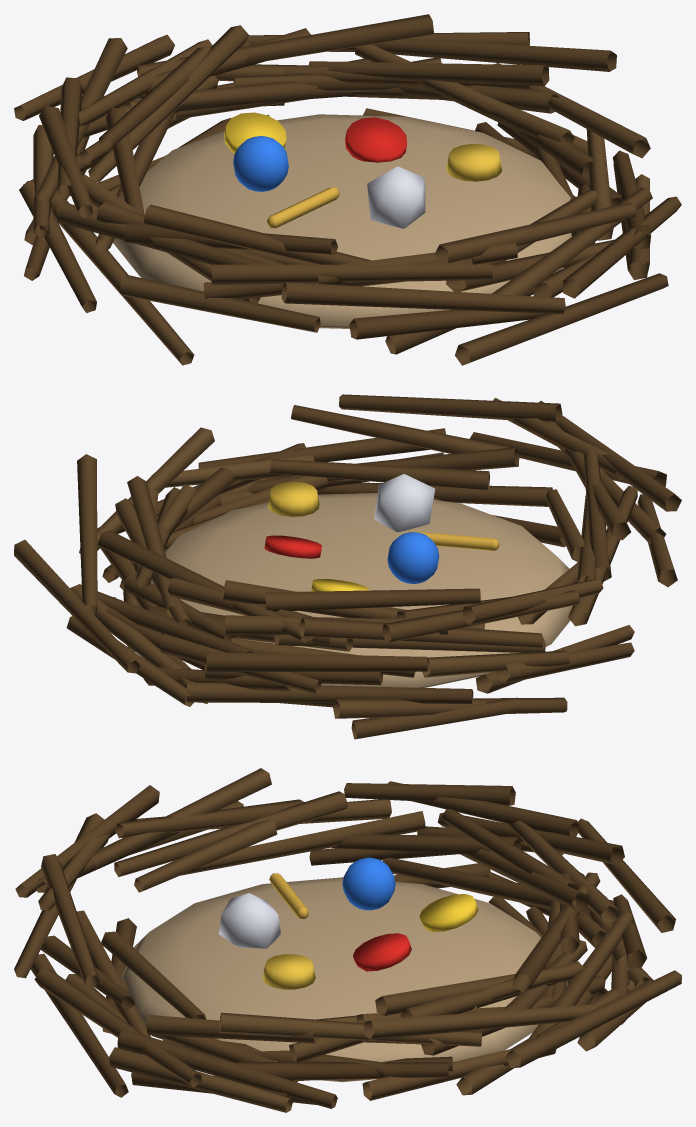
The model's file is OwlNest.glb.
The picture shows the model from 3 angles, top to bottom: view 1: azimuth 30°, elevation 25°; view 2: azimuth 150°, elevation 25°; view 3: azimuth 270°, elevation 25°; orthographic projection. The views are drawn at different scales.
Visible parts, largest first — view 1: Twigs, Down, Shiny.002, Shiny.001, Shiny, Shiny.004, Shiny.003, Key; view 2: Twigs, Down, Shiny.002, Shiny.001, Shiny.004, Shiny, Key, Shiny.003; view 3: Twigs, Down, Shiny.002, Shiny.001, Shiny, Shiny.003, Shiny.004, Key.
Part boxes in pixels (<box>): Twigs: <box>14,14,681,365</box>; Down: <box>113,114,571,328</box>; Shiny.002: <box>367,166,425,228</box>; Shiny.001: <box>233,136,288,191</box>; Shiny: <box>345,117,407,162</box>; Shiny.004: <box>446,143,502,181</box>; Shiny.003: <box>224,112,286,153</box>; Key: <box>267,187,339,228</box>; Twigs: <box>14,394,681,739</box>; Down: <box>150,493,572,687</box>; Shiny.002: <box>374,474,435,532</box>; Shiny.001: <box>387,532,439,583</box>; Shiny.004: <box>268,481,319,516</box>; Shiny: <box>264,535,321,558</box>; Key: <box>409,531,499,550</box>; Shiny.003: <box>311,579,368,591</box>; Twigs: <box>14,768,681,1112</box>; Down: <box>121,877,568,1082</box>; Shiny.002: <box>218,893,280,948</box>; Shiny.001: <box>342,857,395,910</box>; Shiny: <box>353,933,411,971</box>; Shiny.003: <box>419,894,478,932</box>; Shiny.004: <box>262,954,315,989</box>; Key: <box>269,873,308,918</box>.
Size of the model in its own units: 0.468 by 0.1296 by 0.5018.
